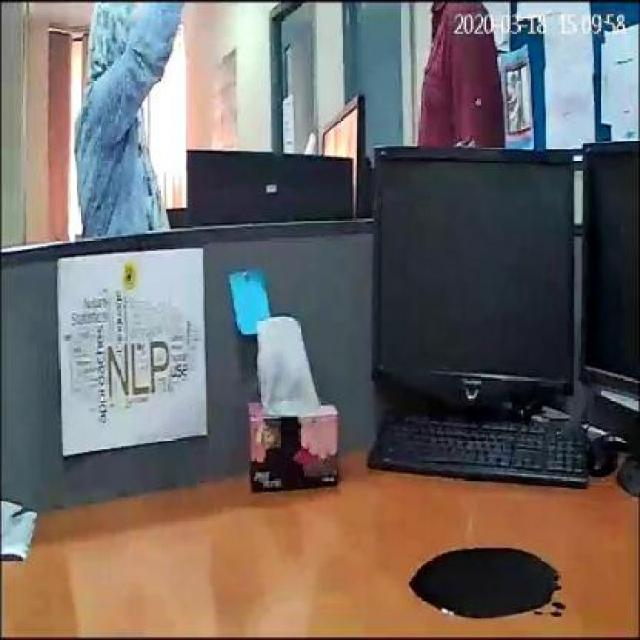spill: (406, 547, 559, 618)
